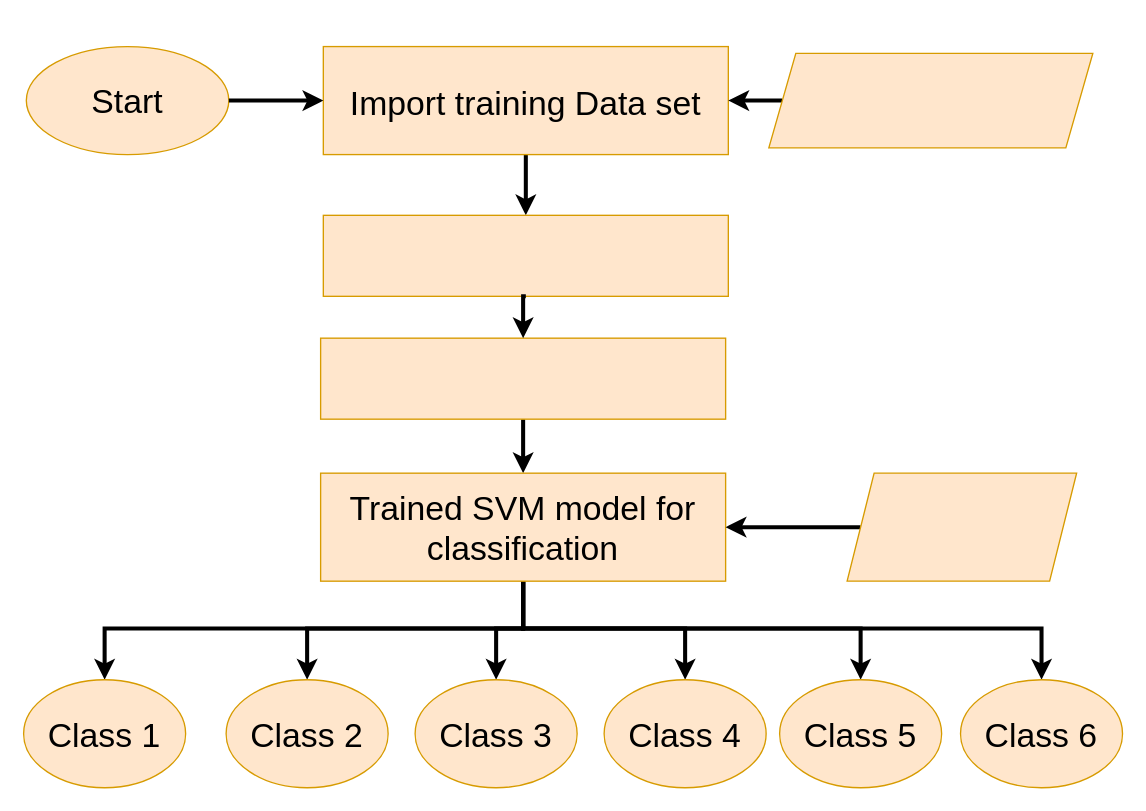
Image size: 1146x811. Some labels were removed from this diagram. Here are the shapes that lost their labels. From the top down, the centre of each, then its label:
At (x=930, y=100): "Training data".
At (x=525, y=255): "Encode the labels".
At (x=522, y=378): "SVM training".
At (x=961, y=526): "Test data".
